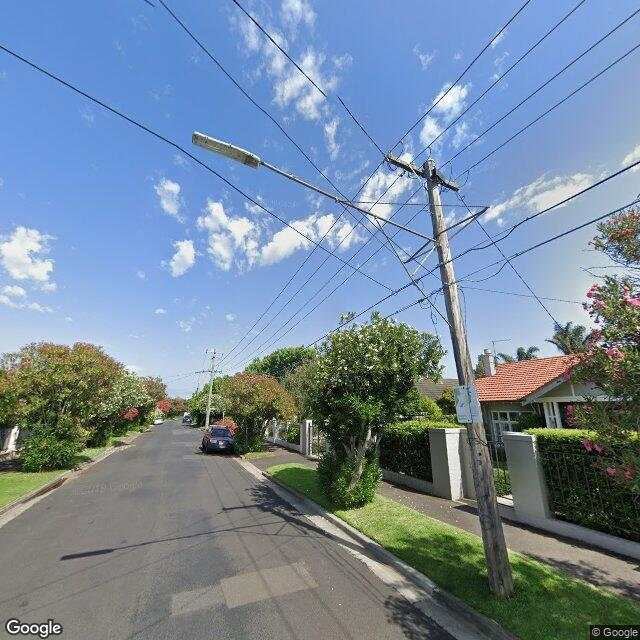crossarm: (385, 154, 458, 192), (202, 370, 222, 372), (206, 352, 223, 354)
streetlight: (192, 132, 438, 243), (195, 371, 202, 373)
timber-pole: (423, 159, 515, 601), (205, 349, 215, 429)
